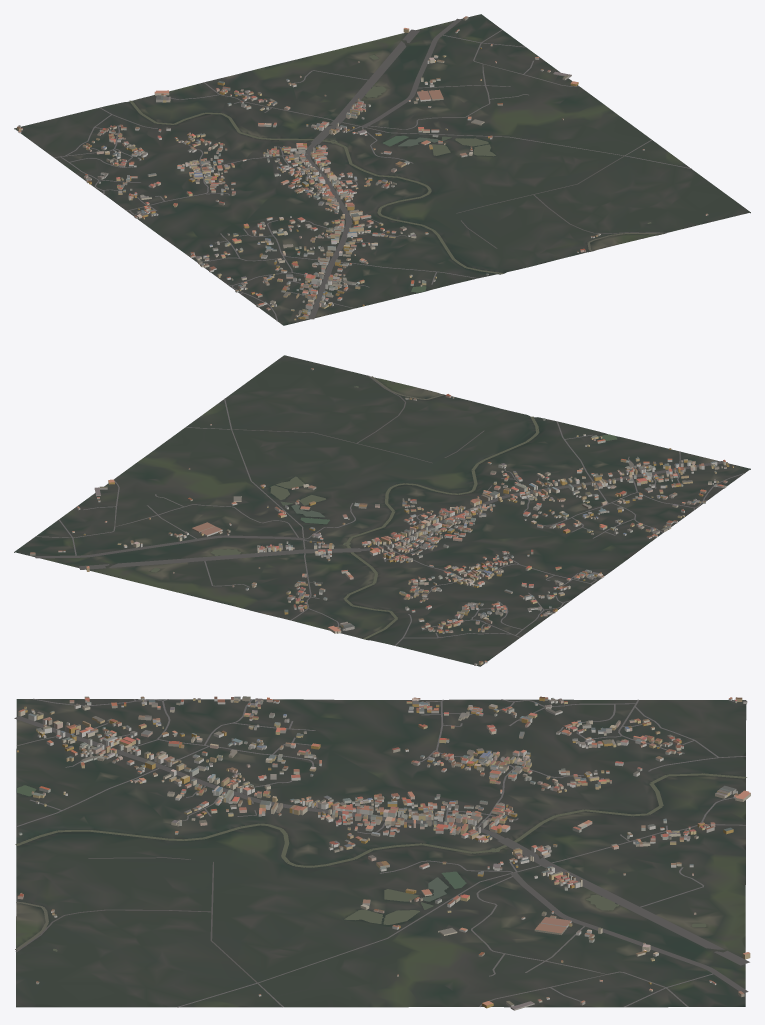
The picture shows the model from 3 angles, top to bottom: view 1: azimuth 30°, elevation 25°; view 2: azimuth 150°, elevation 25°; view 3: azimuth 270°, elevation 25°; orthographic projection. The views are drawn at different scales.
Visible parts, largest first — view 1: ground, buildings, roads, water; view 2: ground, buildings, roads, water; view 3: ground, buildings, roads, water.
Boxes of the visible parts, left/top/right/bottom form: ground: left=14, top=14, right=750, bottom=325; buildings: left=17, top=16, right=708, bottom=320; roads: left=18, top=18, right=691, bottom=321; water: left=129, top=55, right=663, bottom=292; ground: left=14, top=355, right=750, bottom=666; buildings: left=30, top=368, right=733, bottom=665; roads: left=35, top=375, right=744, bottom=663; water: left=151, top=376, right=617, bottom=639; ground: left=16, top=699, right=746, bottom=1007; buildings: left=17, top=696, right=750, bottom=1010; roads: left=14, top=698, right=749, bottom=1007; water: left=15, top=773, right=746, bottom=951.
Size of the model in its own units: 1420 by 21.87 by 1416.
